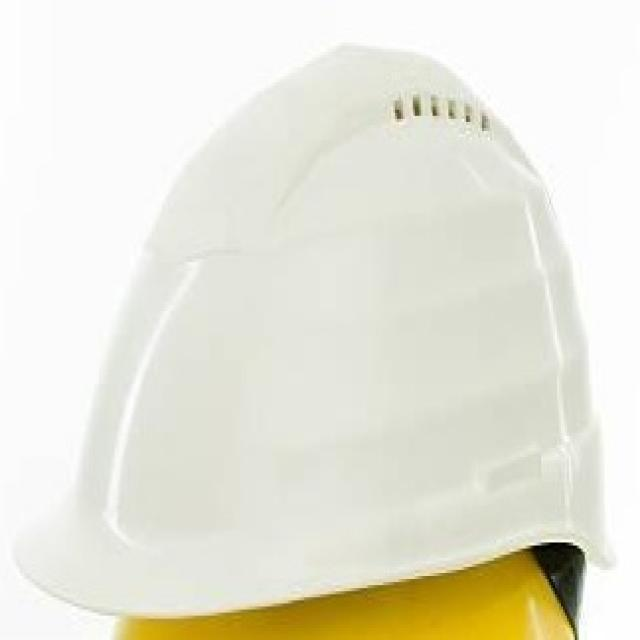helmet: (18, 46, 601, 614)
